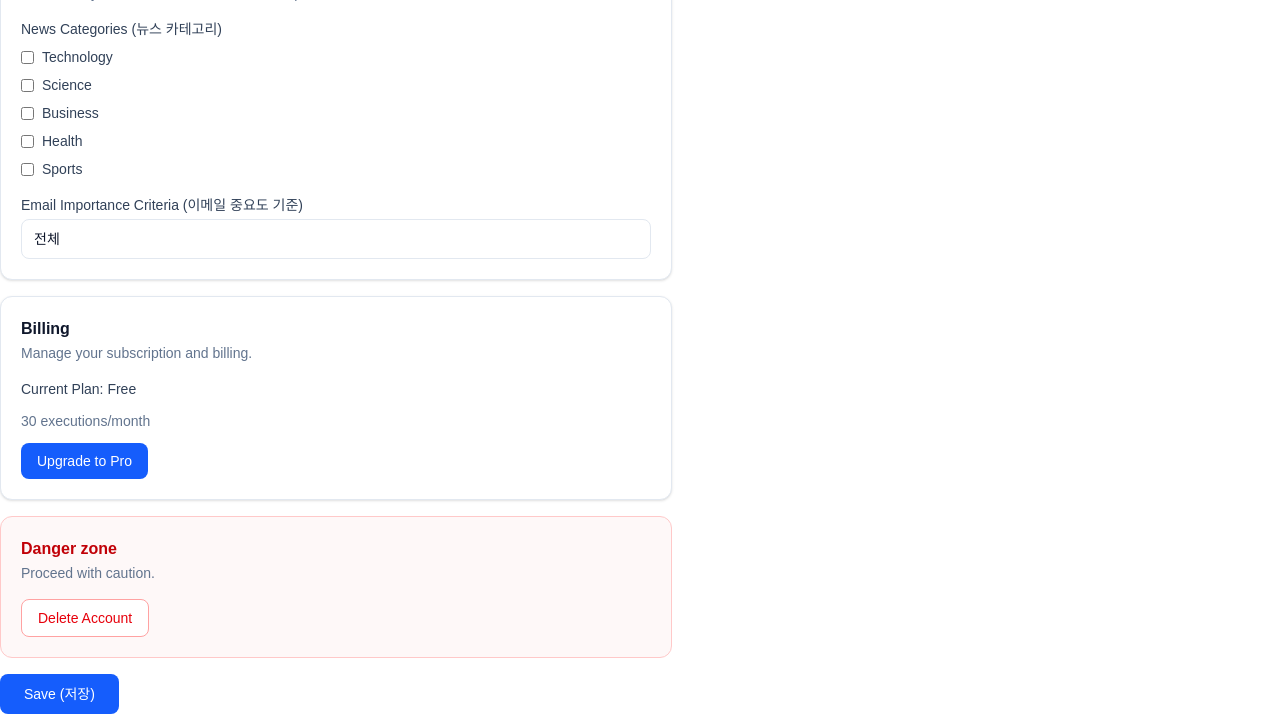
Test: TC-7013: 계정 삭제 버튼 및 확인 모달 › Delete Account 클릭 시 확인 모달이 표시된다 — RED: 모달 미구현
This screenshot has width=1280, height=714.
(page scrolled)
Step 1. Click the button "Delete Account" → click(85, 618), box [21,599,149,637]
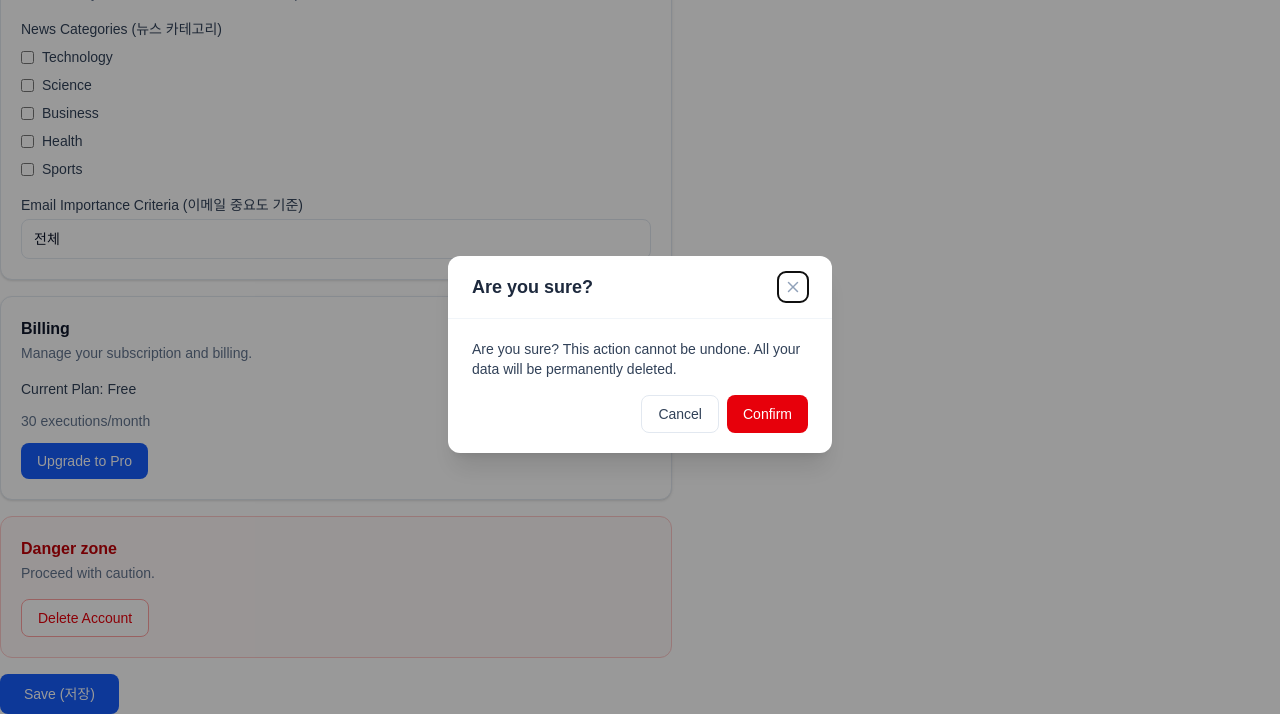
Now the heading "Are you sure?" is shown, box [472,272,593,300]
